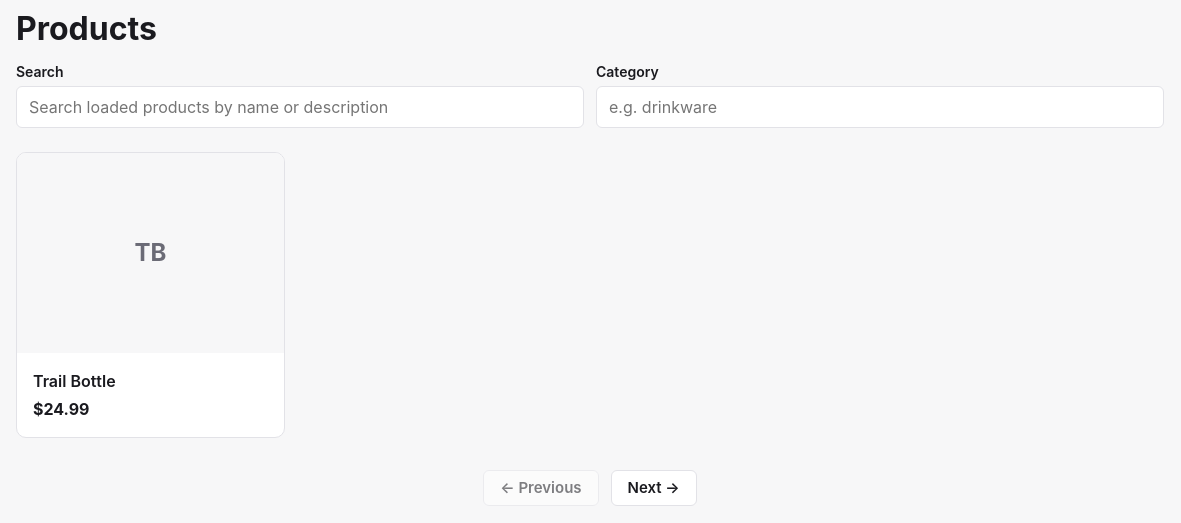
Test: ProductsPage › requests the next cursor page and enables Previous once navigated forward
Expected: the text "Trail Bottle" is shown, [33, 371, 116, 391]
Step 1. Click the button "Next →" → {"x": 654, "y": 488}, box [611, 470, 697, 506]
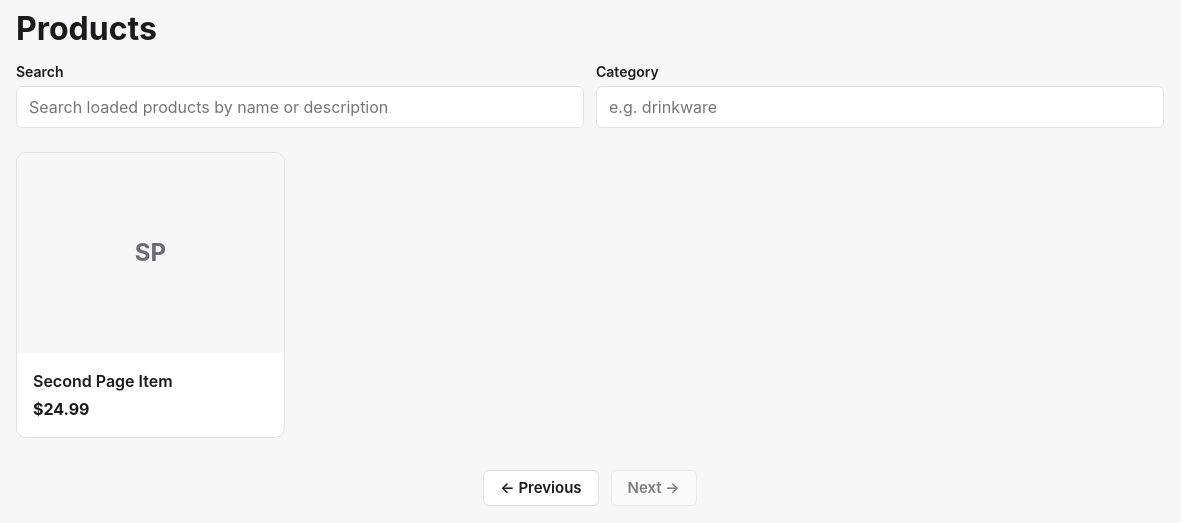
Expected: the text "Second Page Item" is shown, [33, 371, 173, 391]
Expected: the button "← Previous" is enabled, [483, 470, 599, 506]
